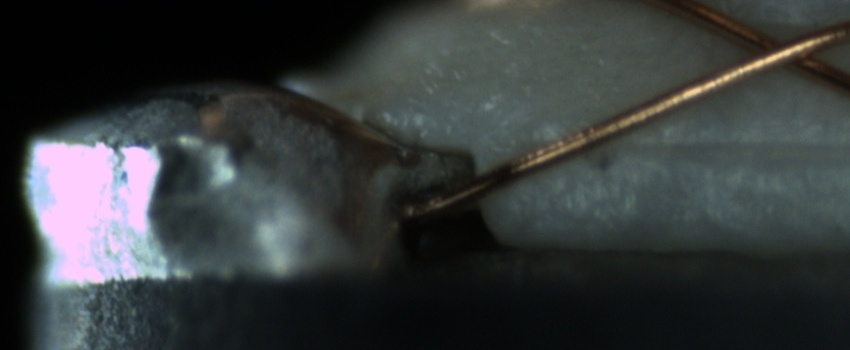CL: (716, 18, 843, 82)
DL: (574, 111, 842, 179)
